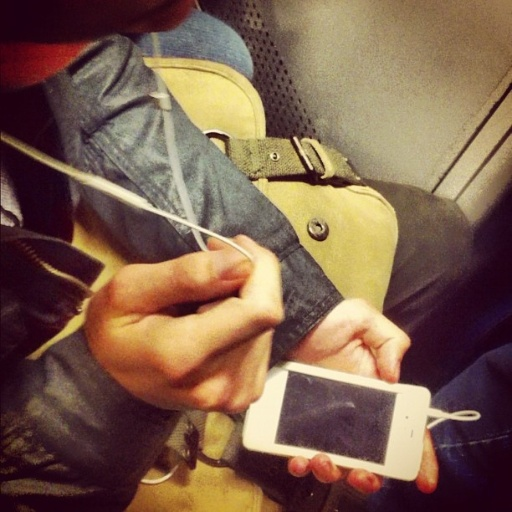hand: (84, 232, 283, 415), (282, 295, 441, 495)
